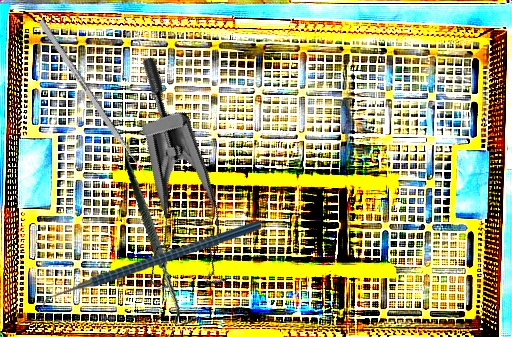Chopper: (36, 221, 261, 317)
Hook Surgical: (101, 160, 220, 328)
Pusher: (37, 18, 151, 183)
Speculum: (54, 54, 267, 313)
